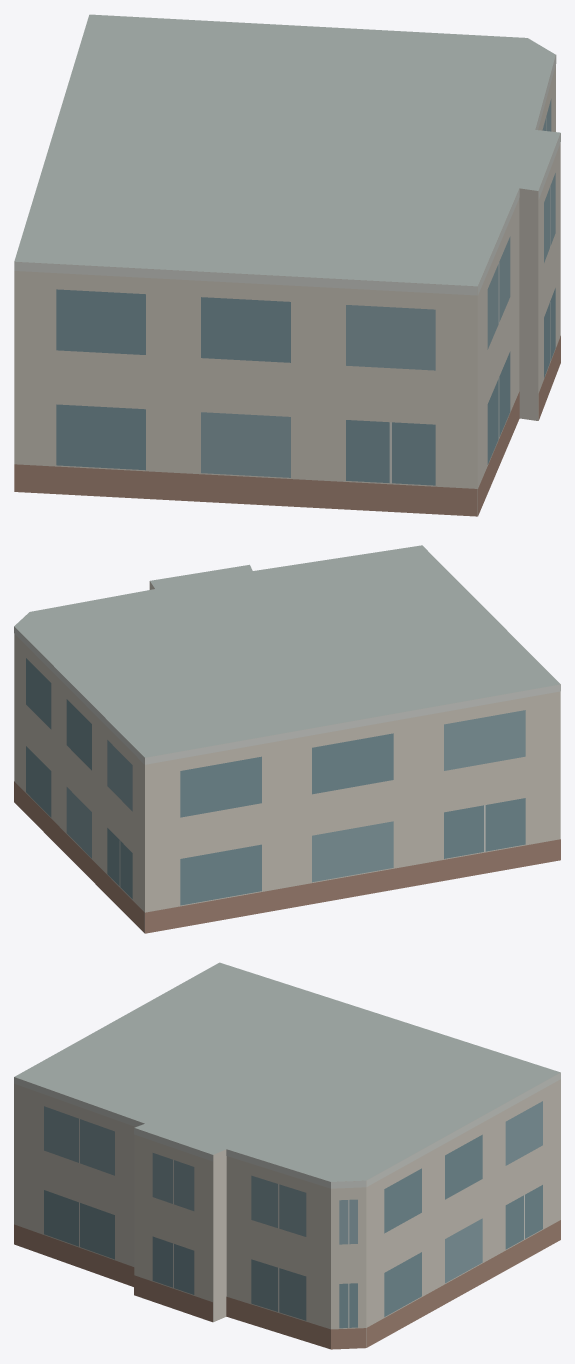
Rendered from survey-upis-32673642.glb.
3 renders of one model, top to bottom at view 1: azimuth 30°, elevation 25°; view 2: azimuth 150°, elevation 25°; view 3: azimuth 270°, elevation 25°, orthographic. The views are drawn at different scales.
Visible parts, largest first — view 1: survey-upis-32673642.tmp; view 2: survey-upis-32673642.tmp; view 3: survey-upis-32673642.tmp.
Part boxes in pixels (box(x1,y1,x2,y2)): survey-upis-32673642.tmp: box(14, 14, 560, 516); survey-upis-32673642.tmp: box(14, 545, 560, 933); survey-upis-32673642.tmp: box(14, 962, 560, 1349).
Size of the model in its own units: 17.17 by 6.1 by 18.06.
